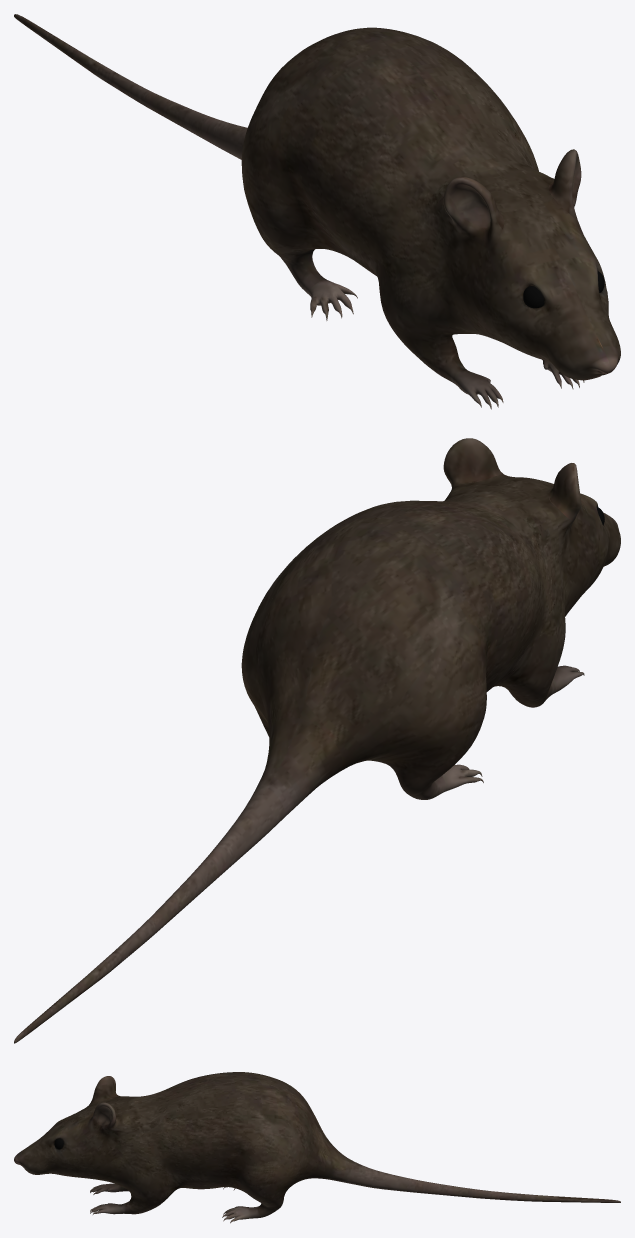
File: street_rat.glb
3 renders of one model, top to bottom at view 1: azimuth 30°, elevation 25°; view 2: azimuth 150°, elevation 25°; view 3: azimuth 270°, elevation 25°, orthographic. The views are drawn at different scales.
Visible parts, largest first — view 1: street_rat; view 2: street_rat; view 3: street_rat.
Part boxes in pixels (<box>): street_rat: <box>14,14,620,409</box>; street_rat: <box>14,438,620,1043</box>; street_rat: <box>14,1072,620,1223</box>.
Bounding box in the file's own units: 0.032 × 0.0339 × 0.1483.
Materials: 1 (1 with a texture image).
